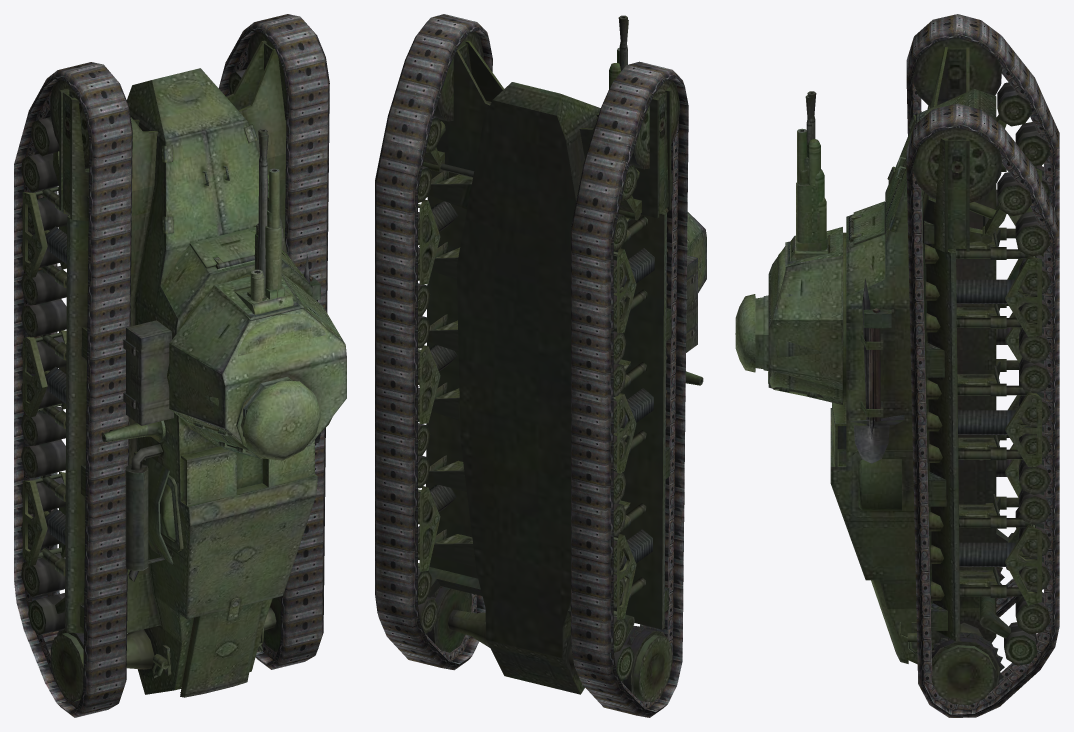
3 views of the same model, side by side, from view 1: azimuth 30°, elevation 25°; view 2: azimuth 150°, elevation 25°; view 3: azimuth 270°, elevation 25° (orthographic). The views are drawn at different scales.
Parts seen in each view (by area): view 1: hull, chassis_track_L, turret_01, chassis_track_R, turret_02, chassis_wheel_L_16, chassis_wheel_L_07, chassis_wheel_L_11, gun_05, chassis_wheel_L_14, chassis_wheel_L_15, chassis_wheel_L_03 (+13 smaller); view 2: hull, chassis_track_L, chassis_track_R, chassis_wheel_L_16, chassis_wheel_R_16, chassis_wheel_L_01, chassis_wheel_R_01, turret_01, chassis_wheel_L_15, chassis_wheel_R_15; view 3: hull, chassis_track_R, turret_01, chassis_track_L, chassis_wheel_R_16, chassis_wheel_R_01, chassis_wheel_L_01, turret_02, gun_05, gun_06, chassis_wheel_R_03, chassis_wheel_R_02 (+13 smaller).
Part boxes in pixels (bbox=[...]): hull: bbox=[22, 40, 320, 697]; chassis_track_L: bbox=[14, 62, 132, 717]; turret_01: bbox=[169, 273, 346, 458]; chassis_track_R: bbox=[218, 14, 329, 669]; turret_02: bbox=[190, 287, 332, 460]; chassis_wheel_L_16: bbox=[50, 629, 83, 701]; chassis_wheel_L_07: bbox=[21, 299, 66, 337]; chassis_wheel_L_11: bbox=[21, 439, 65, 477]; gun_05: bbox=[252, 210, 281, 301]; chassis_wheel_L_14: bbox=[21, 553, 65, 596]; chassis_wheel_L_15: bbox=[28, 593, 64, 635]; chassis_wheel_L_03: bbox=[21, 153, 58, 192]; hull: bbox=[418, 40, 703, 694]; chassis_track_L: bbox=[571, 61, 688, 717]; chassis_track_R: bbox=[375, 14, 492, 670]; chassis_wheel_L_16: bbox=[621, 625, 672, 702]; chassis_wheel_R_16: bbox=[425, 586, 471, 652]; chassis_wheel_L_01: bbox=[630, 79, 679, 169]; chassis_wheel_R_01: bbox=[434, 31, 483, 121]; turret_01: bbox=[687, 212, 706, 292]; chassis_wheel_L_15: bbox=[614, 645, 634, 681]; chassis_wheel_R_15: bbox=[418, 597, 437, 633]; hull: bbox=[830, 47, 1041, 664]; chassis_track_R: bbox=[906, 103, 1059, 717]; turret_01: bbox=[735, 227, 842, 404]; chassis_track_L: bbox=[906, 14, 1059, 617]; chassis_wheel_R_16: bbox=[931, 632, 1004, 705]; chassis_wheel_R_01: bbox=[912, 127, 1001, 202]; chassis_wheel_L_01: bbox=[912, 38, 1001, 106]; turret_02: bbox=[735, 236, 842, 399]; gun_05: bbox=[796, 169, 824, 246]; gun_06: bbox=[796, 128, 821, 250]; chassis_wheel_R_03: bbox=[1015, 212, 1050, 256]; chassis_wheel_R_02: bbox=[997, 172, 1032, 216].
Bounding box in the file's own units: 1.71 × 4.37 × 2.14.
Materials: 2 (2 with a texture image).
